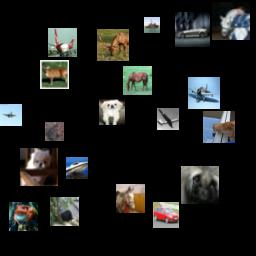airplane: (188, 77, 220, 109), (48, 28, 77, 57), (157, 108, 179, 130), (0, 104, 22, 126)
automobile: (175, 12, 210, 47), (153, 202, 179, 228)
bird: (50, 197, 79, 226)
cat: (203, 111, 235, 143)
deer: (97, 29, 129, 61), (40, 60, 69, 89)
dog: (181, 166, 219, 204), (20, 148, 58, 186), (99, 99, 125, 125)
frog: (9, 202, 38, 231), (45, 122, 64, 141)
ship: (66, 157, 88, 179), (144, 17, 160, 33)
